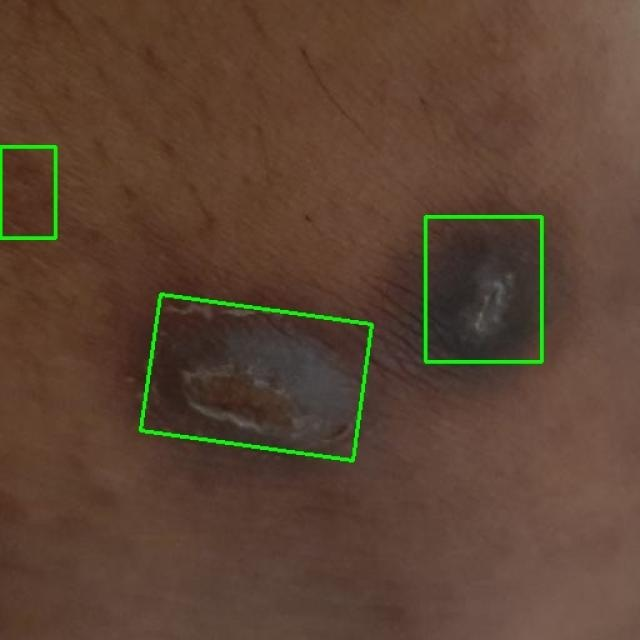Contact Dermatitis: (141, 295, 372, 461), (425, 216, 541, 361), (0, 146, 55, 238)
